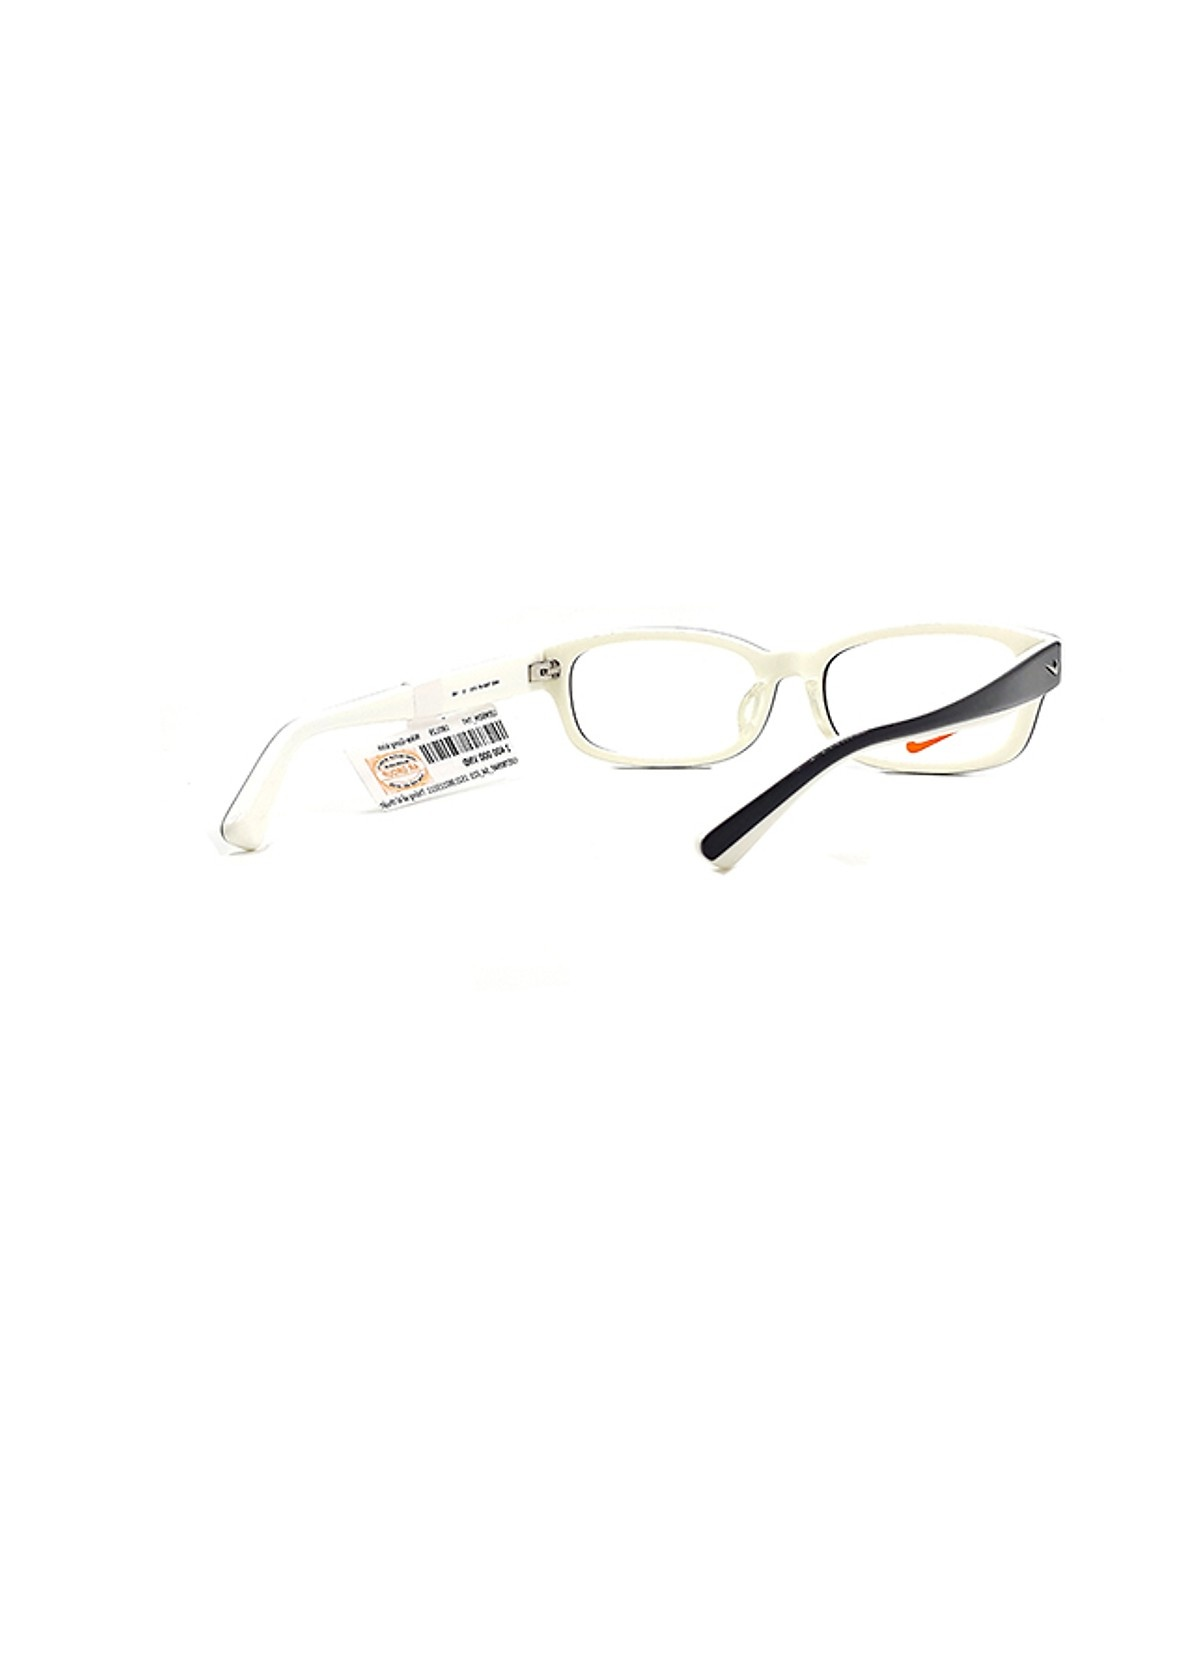Nike: (823, 683, 1045, 811)
